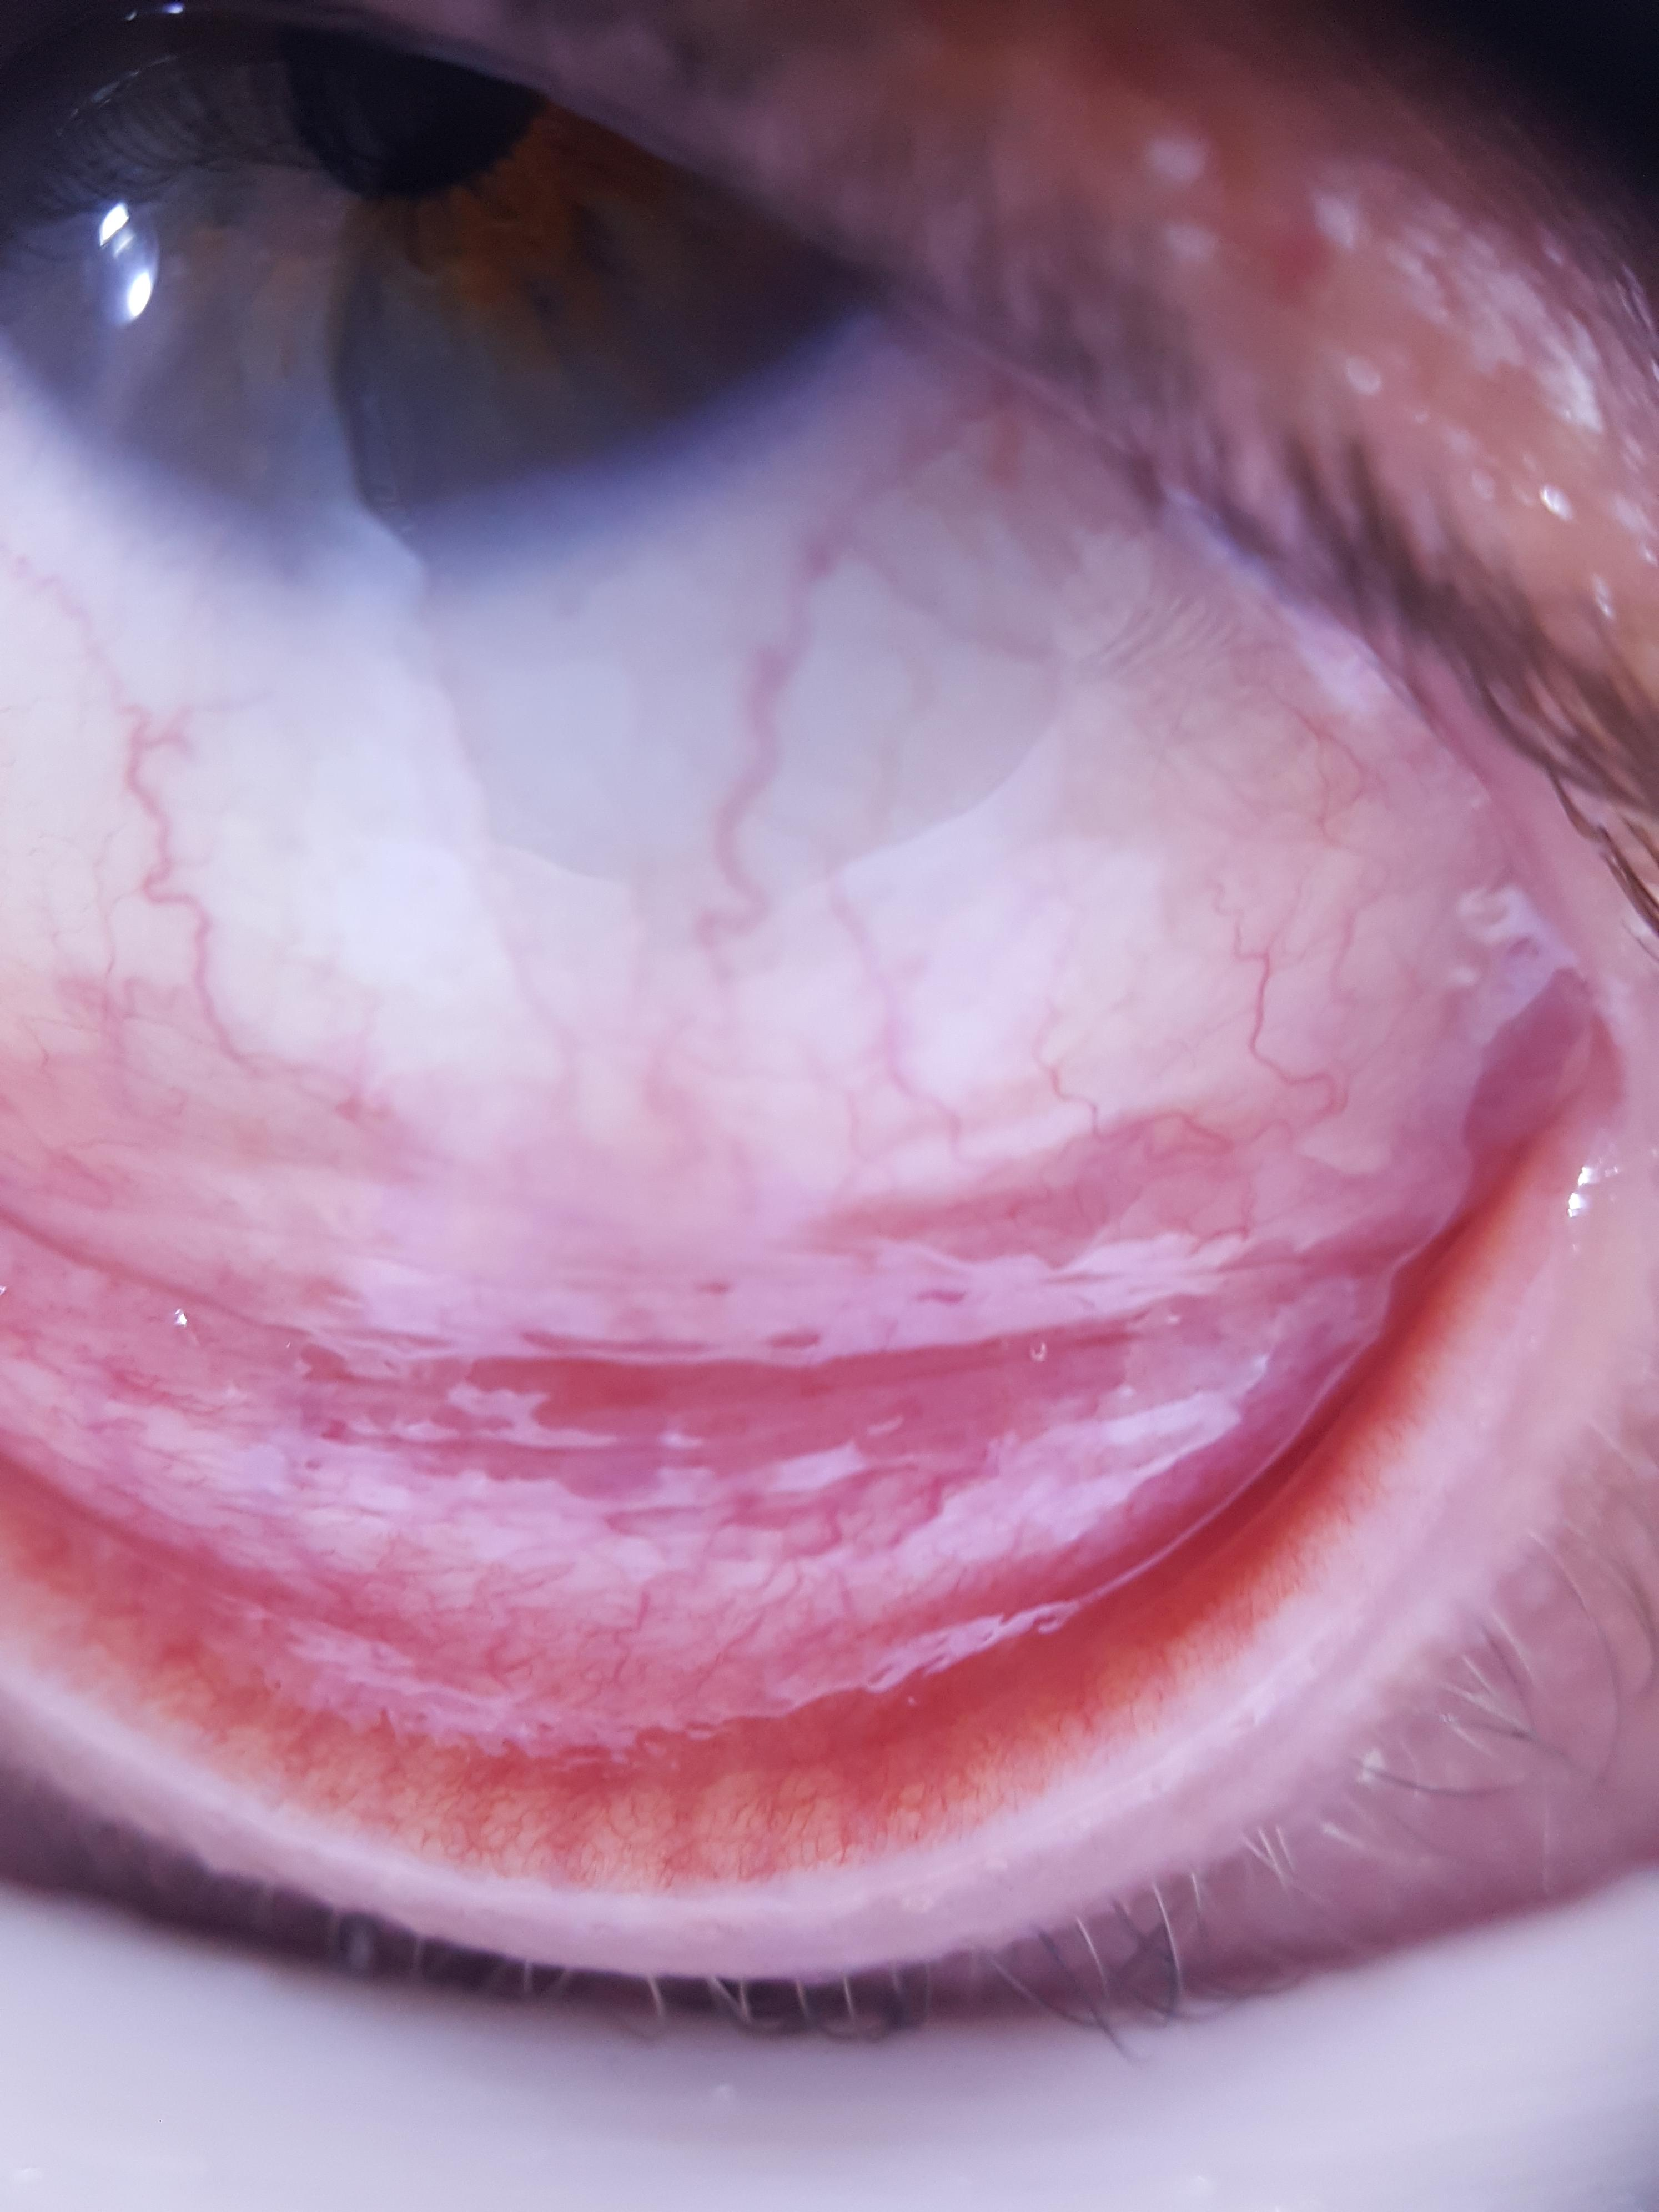forniceal: (9, 1202, 1408, 1735)
forniceal_palpebral: (0, 1158, 1540, 1890)
palpebral: (0, 1169, 1513, 1869)
